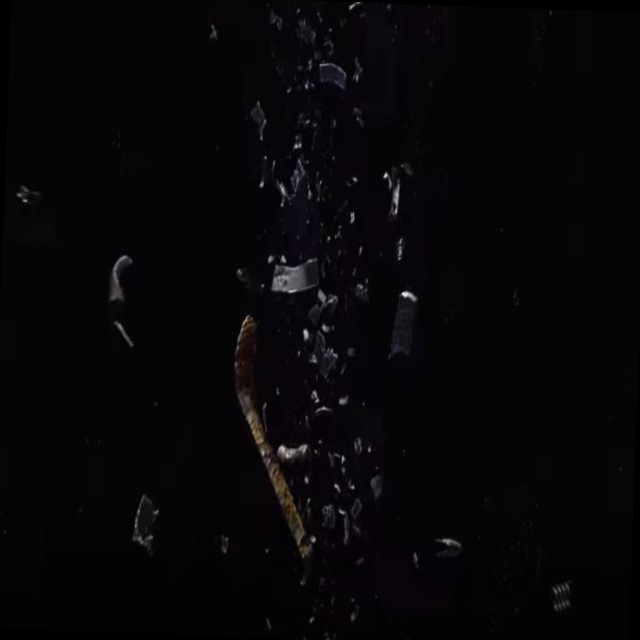large_debris: (223, 301, 310, 577), (93, 230, 146, 353), (130, 473, 175, 559), (261, 150, 318, 208), (321, 490, 367, 560), (392, 281, 423, 380), (271, 252, 332, 302), (382, 156, 416, 236), (310, 55, 356, 103), (313, 331, 349, 390), (547, 568, 582, 623), (310, 278, 344, 326), (306, 388, 337, 435), (344, 1, 390, 28), (368, 468, 391, 520), (248, 86, 269, 140), (440, 525, 468, 561), (351, 425, 372, 470)
